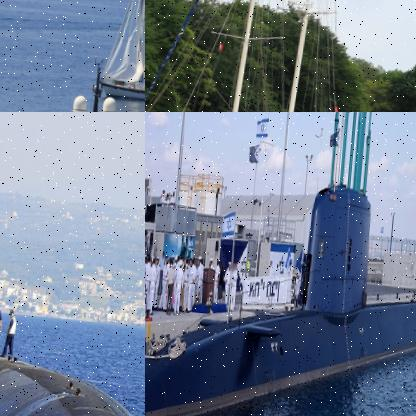Sails Boat: (145, 0, 383, 111), (98, 0, 144, 106)
Submarine: (145, 112, 415, 415), (0, 112, 144, 415)
Yacht: (0, 47, 144, 111)
